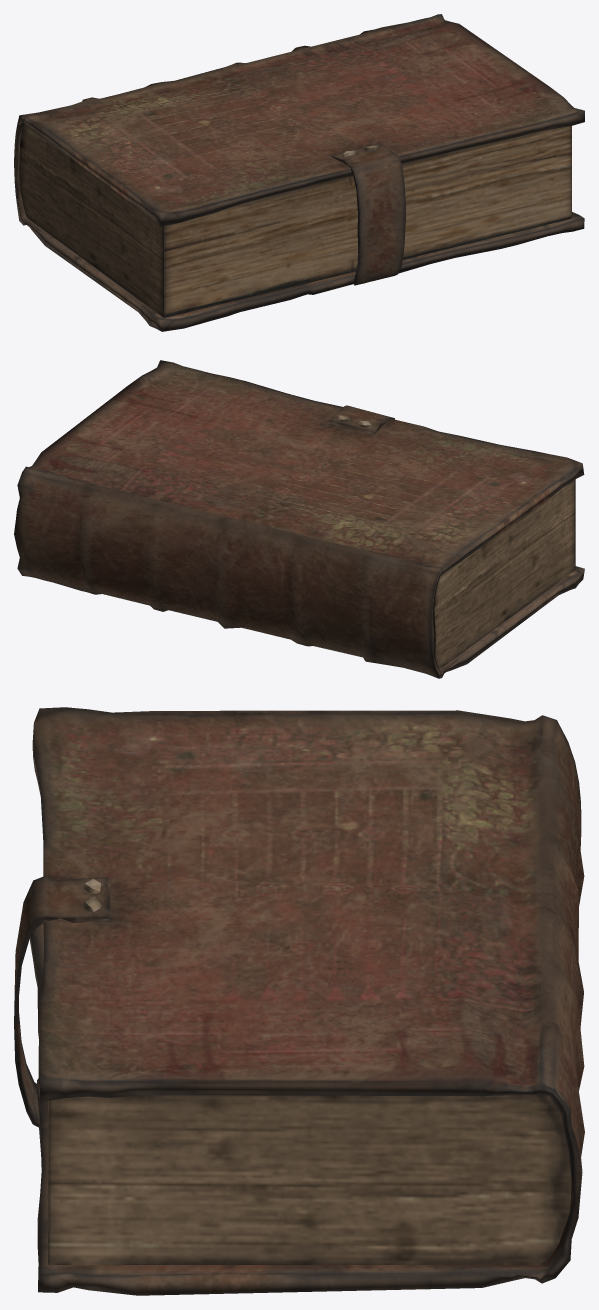
Rendered from SM_Book03.fbx.
3 views of the same model, one above another, from view 1: azimuth 30°, elevation 25°; view 2: azimuth 150°, elevation 25°; view 3: azimuth 270°, elevation 25° (orthographic). The views are drawn at different scales.
Visible parts, largest first — view 1: SM_Book03_LOD0; view 2: SM_Book03_LOD0; view 3: SM_Book03_LOD0.
Boxes of the visible parts, box(x1,y1,x2,y2) form: SM_Book03_LOD0: box(14, 14, 584, 331); SM_Book03_LOD0: box(14, 360, 584, 678); SM_Book03_LOD0: box(14, 707, 584, 1295).
Size of the model in its own units: 28.24 by 18.13 by 7.69.
